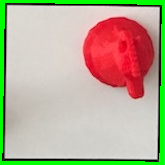Red Knight: (79, 12, 157, 103)
